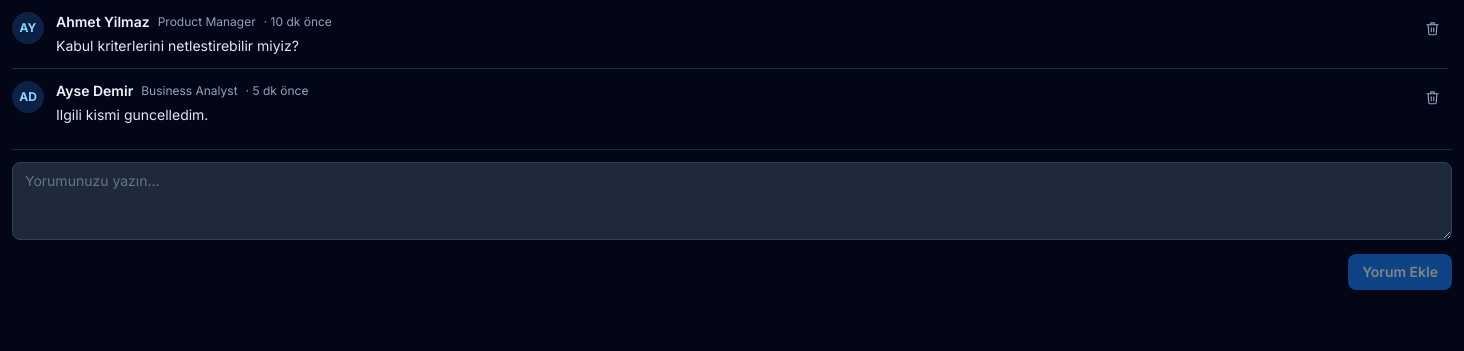
Test: CommentsTab › ekleme hatası kullanıcıya gösterilir
In the text box with test id "comment-input": [732, 201] box [12, 162, 1452, 240], type "deneme"
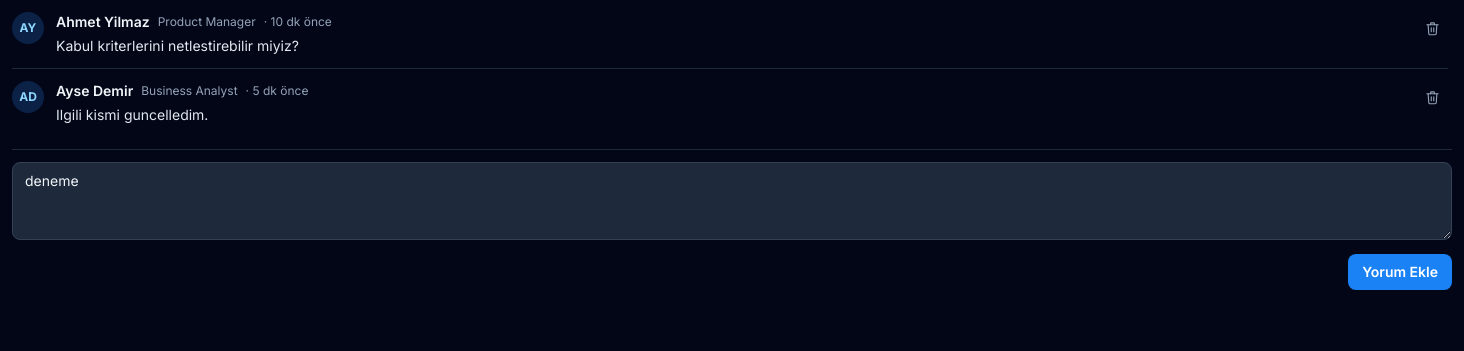
Click the button with test id "comment-submit": [1400, 272] box [1348, 254, 1452, 290]
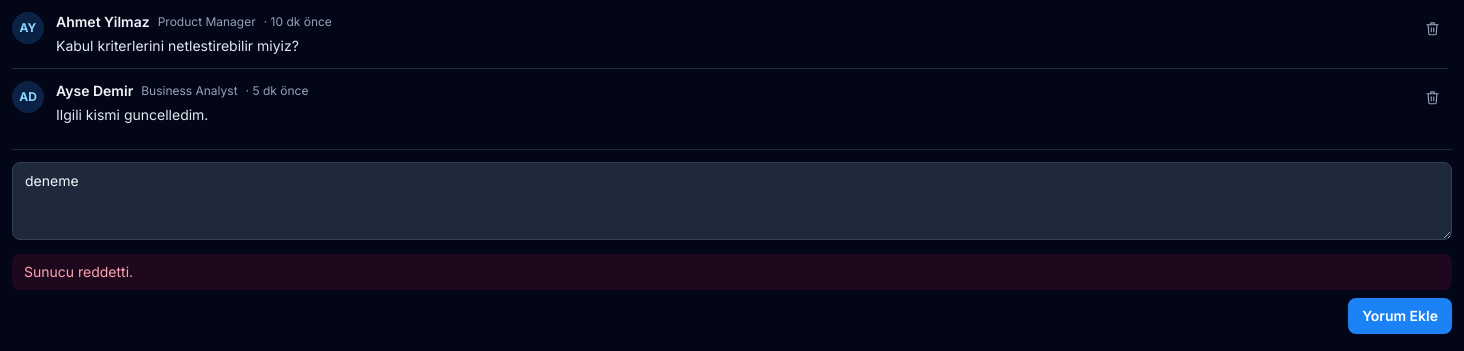
Now the text "Sunucu reddetti." is shown, box [12, 254, 1452, 290]
